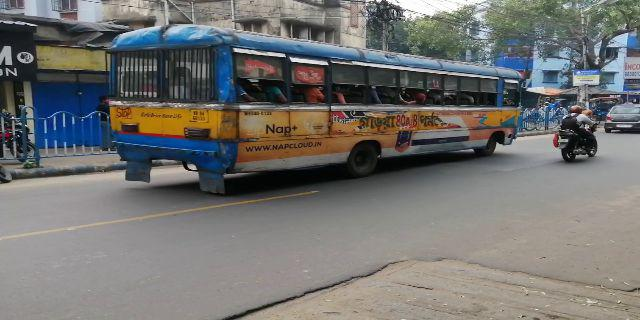Bus: (101, 31, 526, 174)
Car: (602, 100, 640, 136)
Motorbike: (552, 113, 602, 160)
